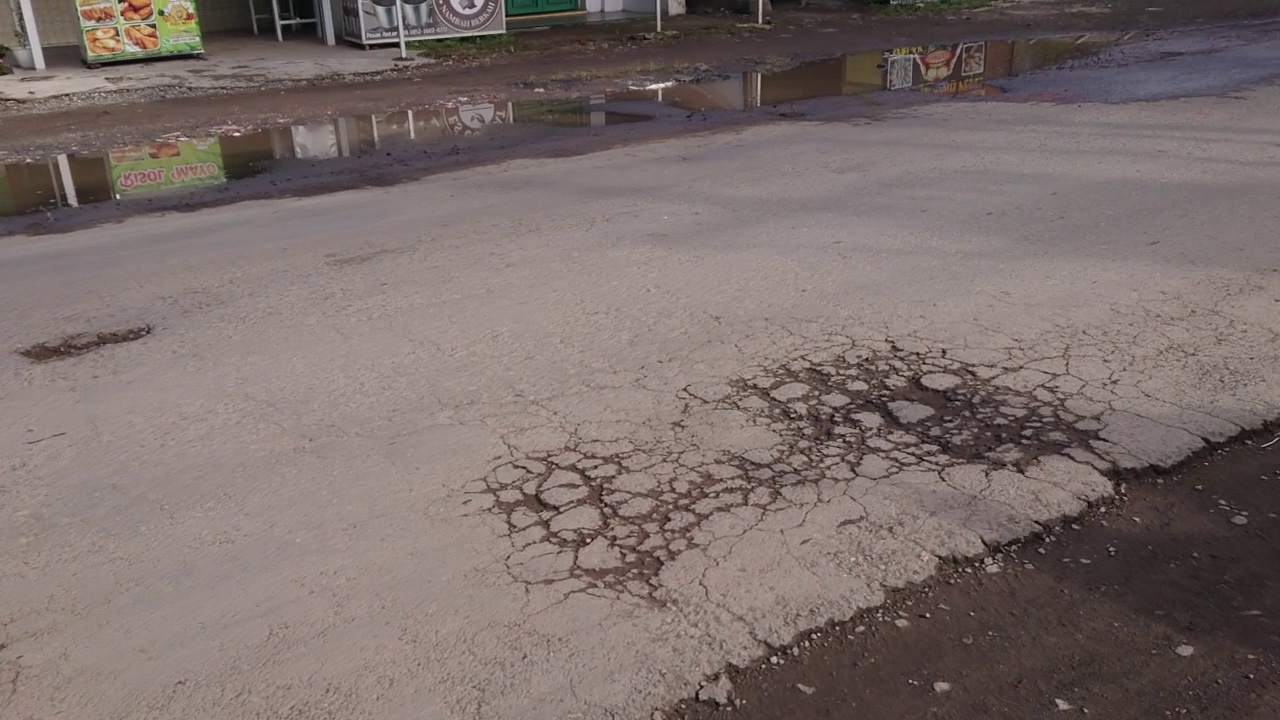Retak: (498, 331, 1122, 591)
